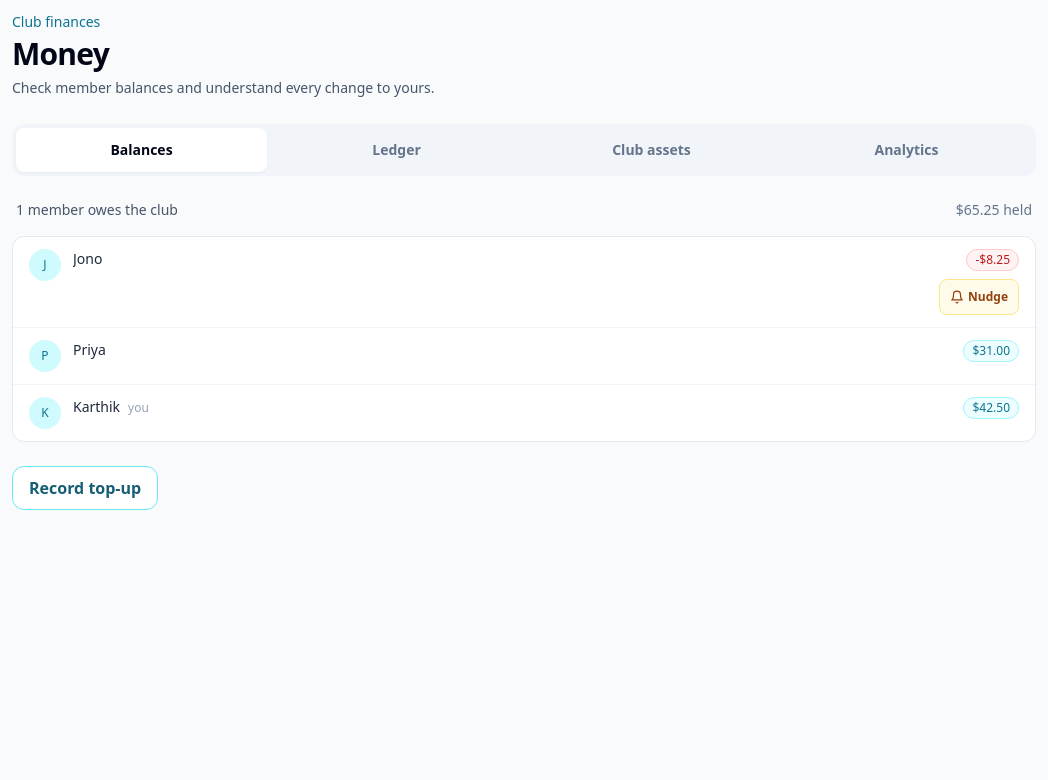
it: Money — club assets › says plainly when the books do not balance
What coordinates should you click on to do the following:
click the tab "Club assets"
I would click on:
 (652, 150)
Its box is [526,128,777,172].
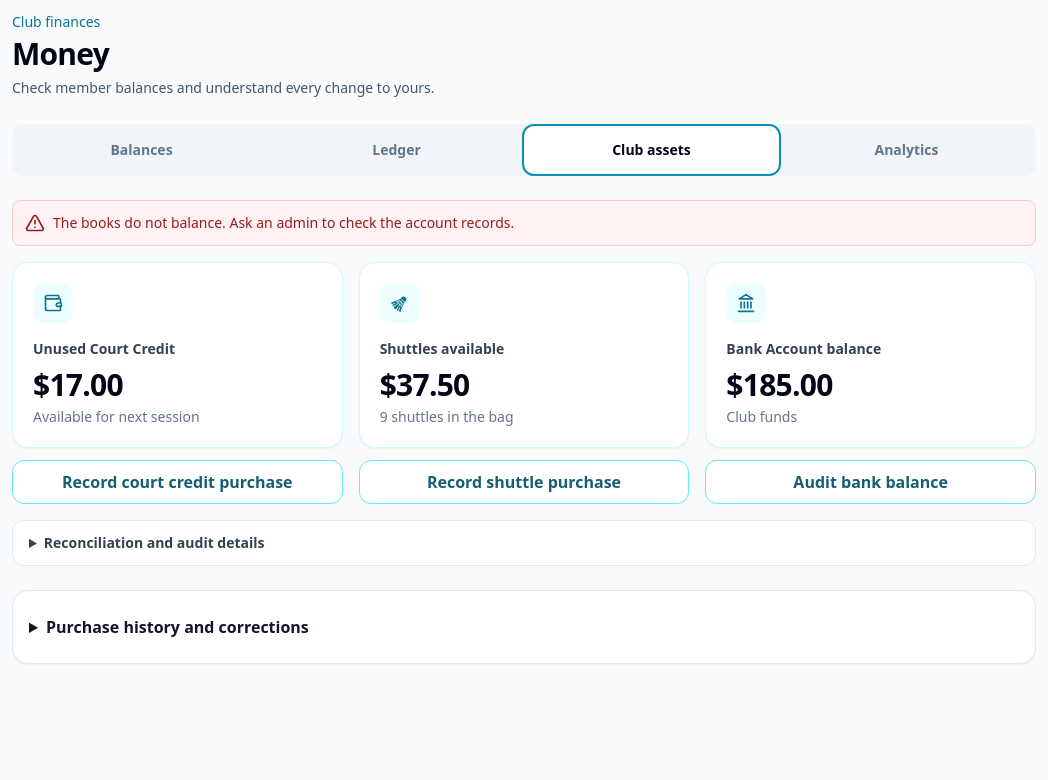
Expected: the text "The books do not balance" is shown, [53,213,514,232]
